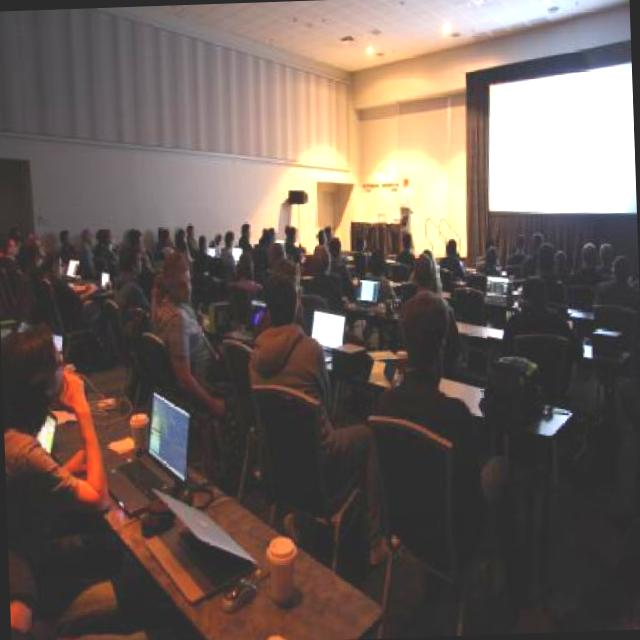Person: (246, 269, 392, 574), (1, 322, 122, 630), (0, 225, 152, 355), (367, 303, 480, 462), (481, 221, 638, 314), (160, 218, 334, 301), (149, 255, 227, 414), (501, 278, 582, 358), (408, 256, 462, 365)
